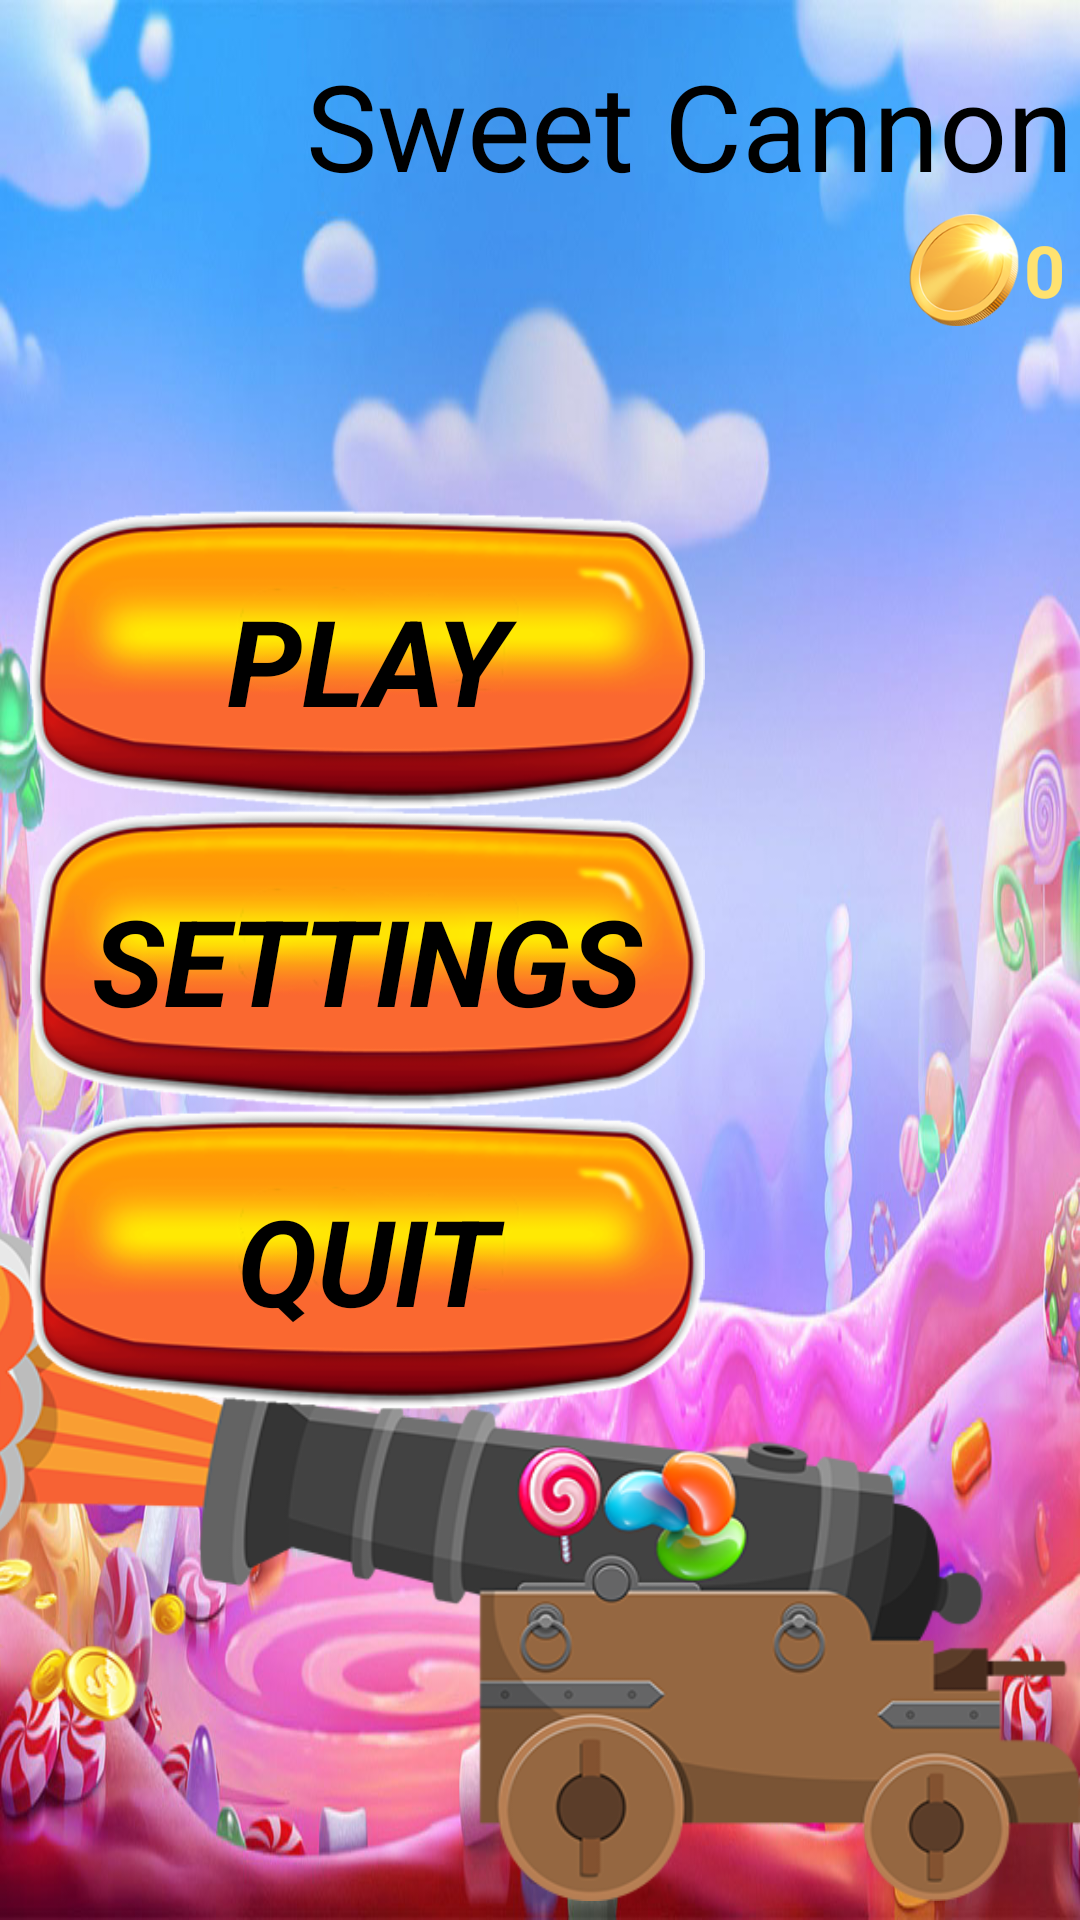

Where icons sit on this 1080×1920 app screen, as bbox=(x1, y1, x2, y2):
coin: bbox=(904, 210, 1019, 326)
